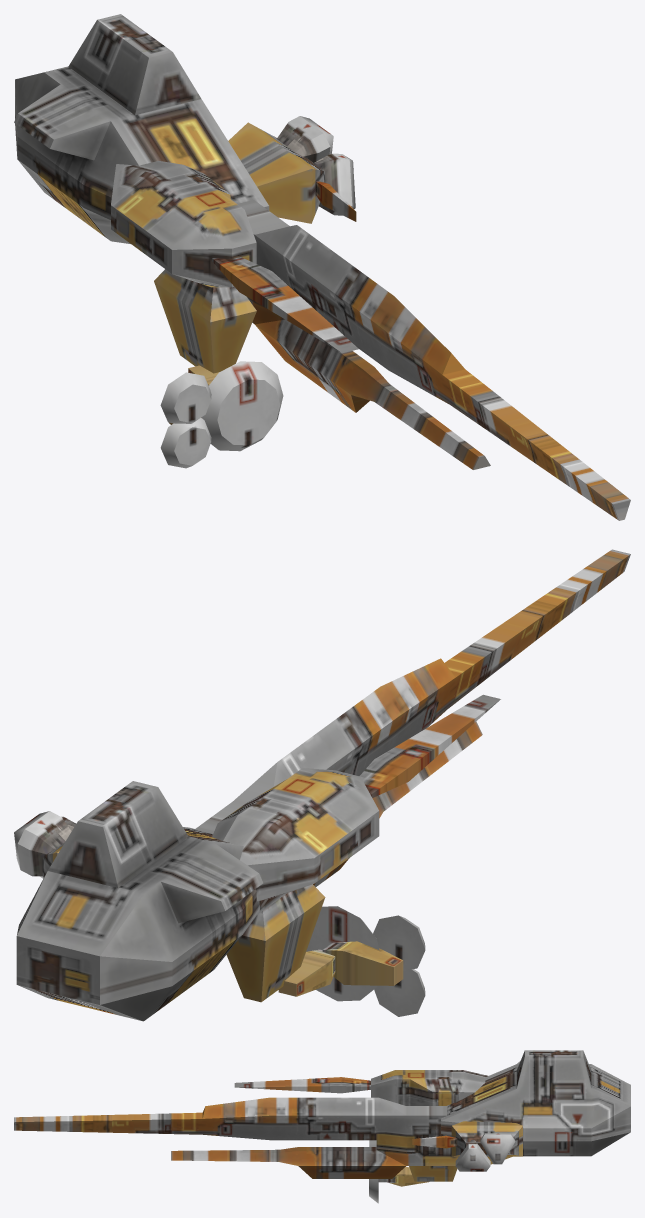
Rendered from sensor_l_03.glb.
3 views of the same model, one above another, from view 1: azimuth 30°, elevation 25°; view 2: azimuth 150°, elevation 25°; view 3: azimuth 270°, elevation 25° (orthographic). The views are drawn at different scales.
Parts seen in each view (by area): view 1: sensor_l_03_LOD0; view 2: sensor_l_03_LOD0; view 3: sensor_l_03_LOD0.
Boxes of the visible parts, x1,y1,x2,y2 form: sensor_l_03_LOD0: (14,14,630,520); sensor_l_03_LOD0: (14,549,630,1021); sensor_l_03_LOD0: (14,1050,630,1203).
Size of the model in its own units: 1.12 by 1.12 by 3.83.
1 material, 1 textured.
